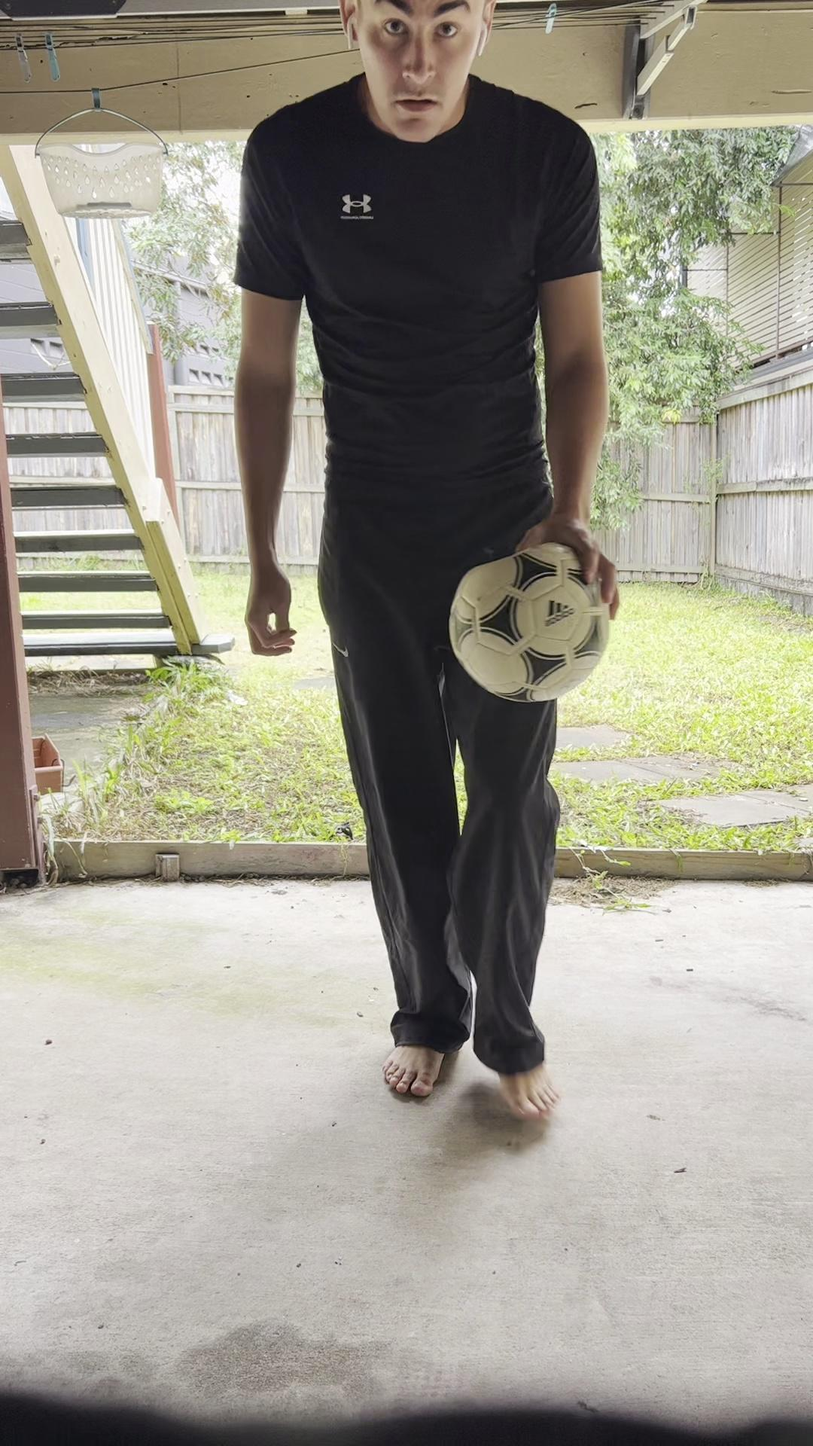ball: (446, 547, 606, 704)
foot: (381, 1041, 443, 1101), (500, 1062, 556, 1118)
person: (232, 0, 612, 1118)
